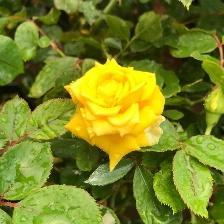rose: (64, 57, 168, 176)
